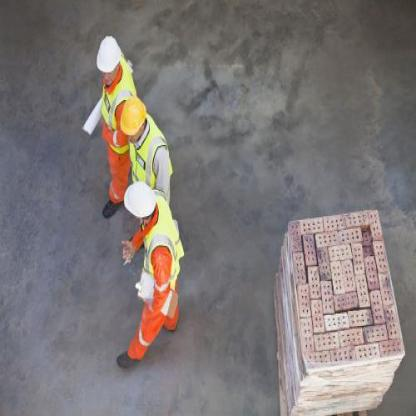helmet: (123, 181, 159, 220), (95, 34, 121, 84), (120, 97, 146, 142)
